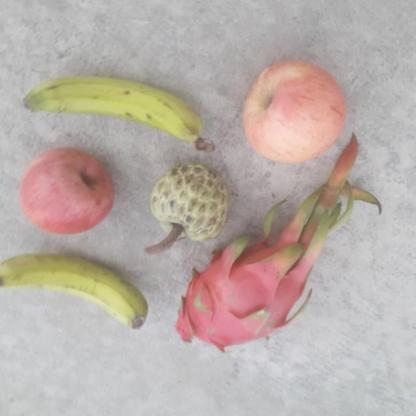annona: (144, 165, 232, 245)
apple: (240, 62, 350, 168), (16, 145, 119, 237)
banana: (20, 70, 218, 158), (1, 249, 152, 338)
pitaya: (172, 224, 316, 354)
